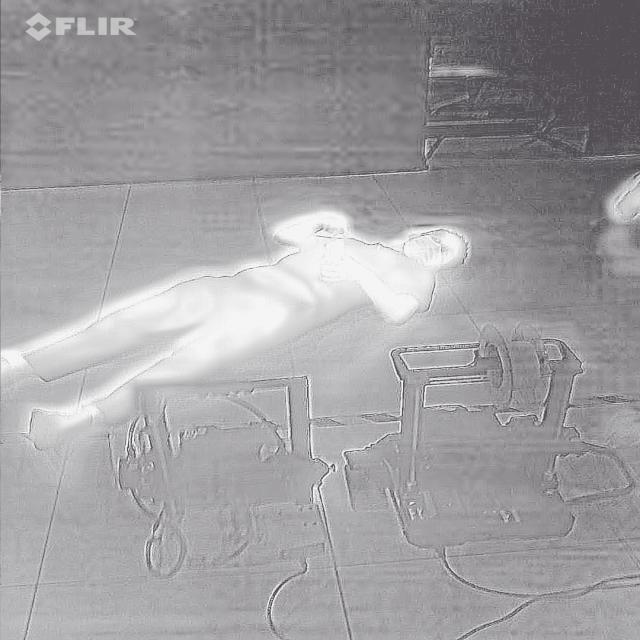Victim: (0, 206, 487, 452)
